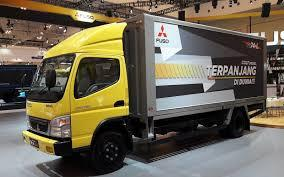truck: (21, 17, 149, 174)
